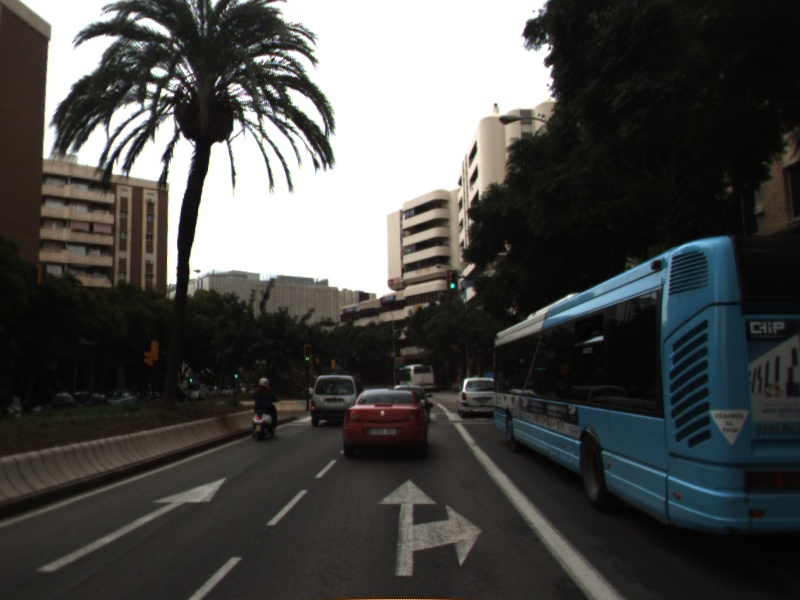STRAIGHT: (32, 474, 232, 577)
STRAIGHT_RIGHT: (372, 475, 486, 579)
